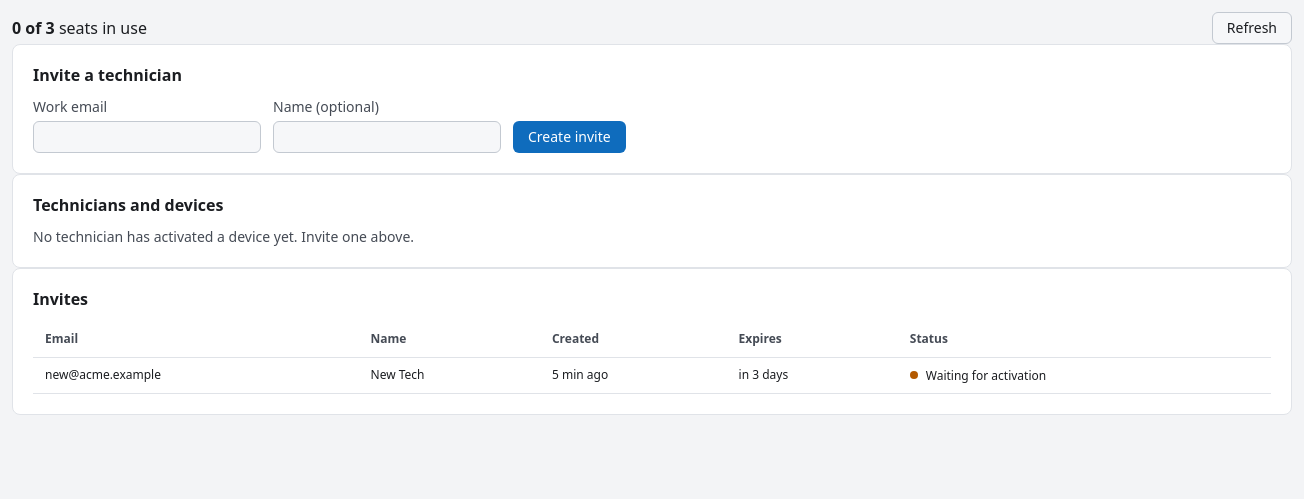
it: TechniciansPage › shows a device that activated since the page opened, on Refresh
The image size is (1304, 499).
Expected: the text "No technician has activated a device yet. Invite one above." is shown, [33,227,414,246]
What coordinates should you click on to do the following:
click the button "Refresh"
I would click on:
 (1252, 28)
Its box is [1212,12,1292,44].
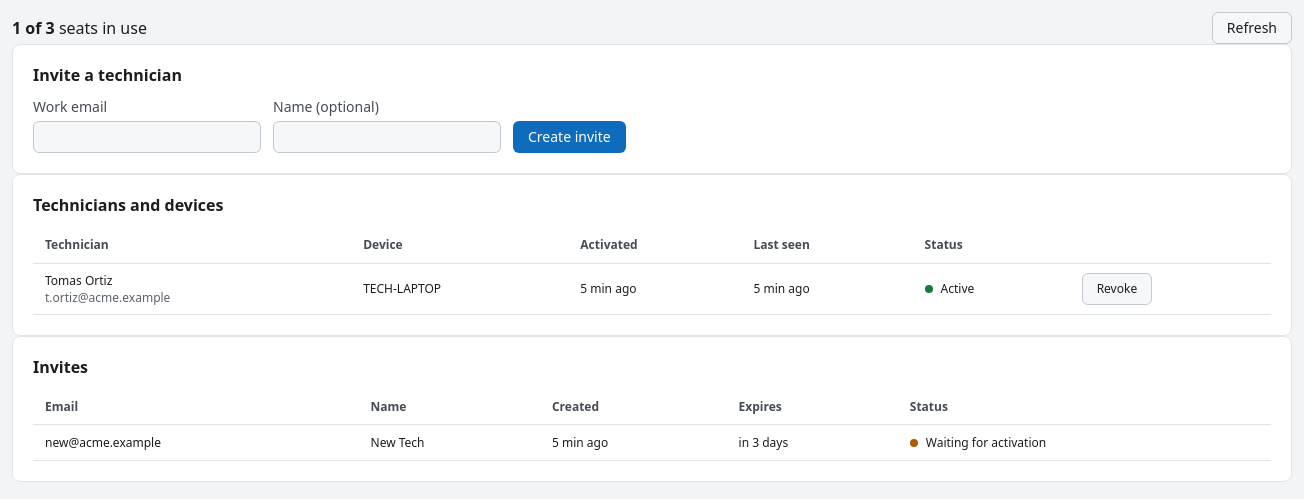
Expected: the text "TECH-LAPTOP" is shown, [351,263,568,314]
Expected: the text "1 of 3 seats in use" is shown, [12,17,147,40]
